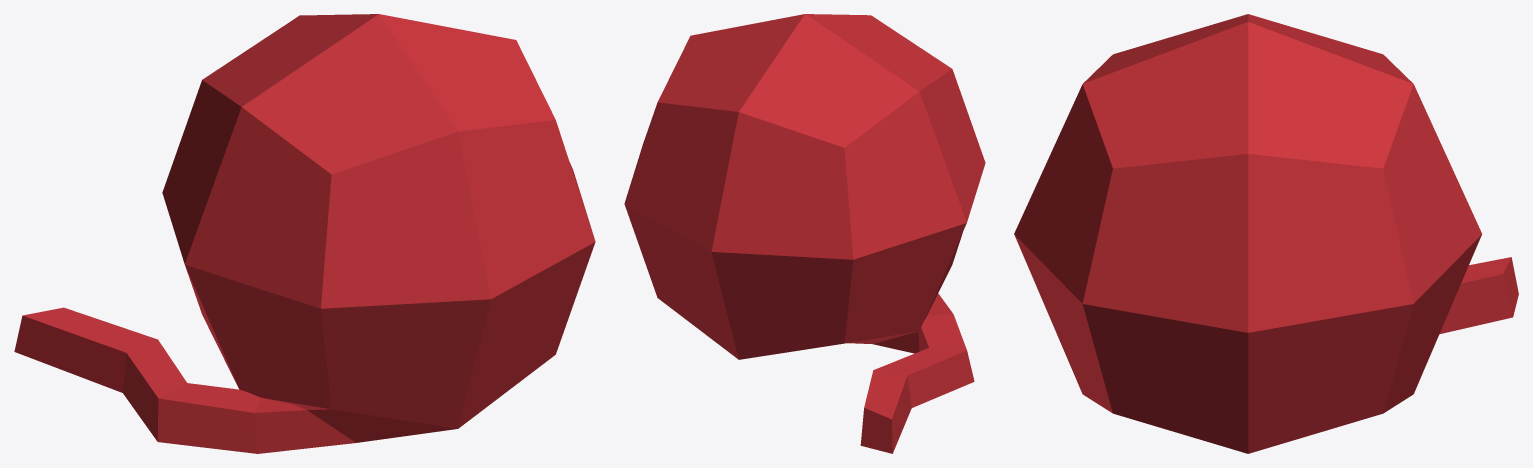
File: cat-ball.glb
The picture shows the model from 3 angles, left to right: view 1: azimuth 30°, elevation 25°; view 2: azimuth 150°, elevation 25°; view 3: azimuth 270°, elevation 25°; orthographic projection. The views are drawn at different scales.
Visible parts, largest first — view 1: cat-ball; view 2: cat-ball; view 3: cat-ball.
Part boxes in pixels (x1=…): cat-ball: x1=14, y1=14, x2=595, y2=453; cat-ball: x1=624, y1=14, x2=985, y2=453; cat-ball: x1=1014, y1=14, x2=1518, y2=453.
Bounding box in the file's own units: 0.1576 × 0.1379 × 0.1539.
1 material, 1 textured.
